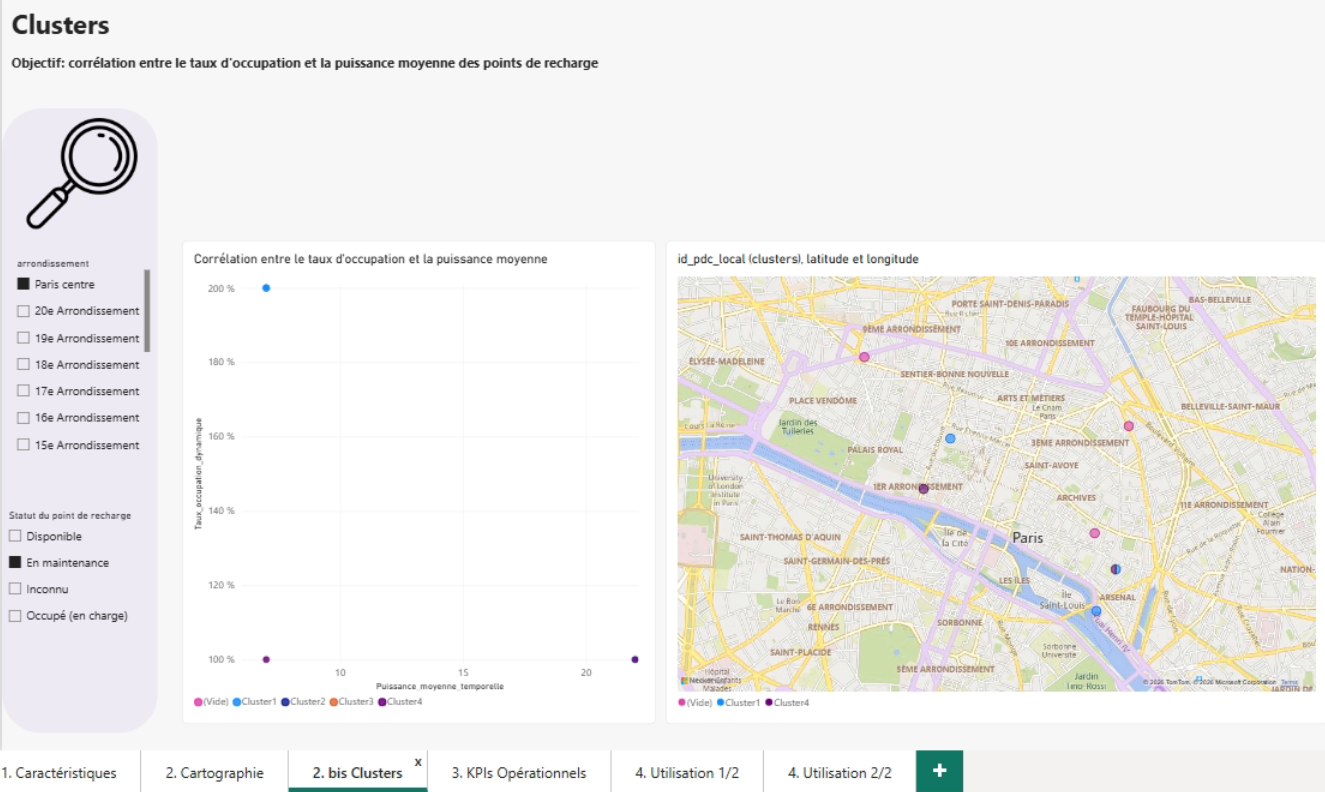

Layout of this report page (visuals, bound fields, positions):
{"tool":"powerbi","page":{"name":"2. bis Clusters","canvas":[1920,1080],"ordinal":2},"visuals":[{"type":"shape","box":[0,166,222,890],"z":0},{"type":"scatterChart","title":"Corrélation entre le taux d''occupation et la puissance moyenne ","fields":{"Category":["belib_temporelle_db dim_statique_temporelle.id_pdc_local"],"Series":["belib_temporelle_db dim_statique_temporelle.id_pdc_local (clusters)"],"X":["belib_temporelle_db dim_statique_temporelle.Puissance_moyenne_temporelle"],"Y":["belib_temporelle_db fait_dispo_temporelle.Taux_occupation_dynamique"]},"box":[256.3,353.7,675,688.7],"z":1000},{"type":"map","fields":{"Series":["belib_temporelle_db dim_statique_temporelle.id_pdc_local (clusters)"],"X":["belib_temporelle_db dim_statique_temporelle.longitude"],"Y":["belib_temporelle_db dim_statique_temporelle.latitude"]},"box":[945,353.7,942.6,689],"z":2000},{"type":"slicer","fields":{"Values":["belib_temporelle_db fait_dispo_temporelle.Statut du point de recharge"]},"box":[1.7,736.5,222.2,222.2],"z":3000},{"type":"slicer","fields":{"Values":["belib_temporelle_db fait_dispo_temporelle.arrondissement"]},"box":[13.7,377.7,196.5,293.9],"z":4000},{"type":"textbox","box":[13.7,20.5,1162,116.2],"z":5000},{"type":"image","box":[24,180,180,158],"z":5001}]}

Visuals, with their boxes on the page's 1920x1080 design canvas (x1, y1, x2, y2). These are canvas units, not pixel positions in the 1325x792 screenshot, which may show the page scaled, cropped or inside an application window:
shape: (x1=0, y1=166, x2=222, y2=1056)
"Corrélation entre le taux d''occupation et la puissance moyenne " scatterChart: (x1=256, y1=354, x2=931, y2=1042)
map - belib_temporelle_db dim_statique_temporelle.id_pdc_local (clusters) x belib_temporelle_db dim_statique_temporelle.longitude: (x1=945, y1=354, x2=1888, y2=1043)
slicer - belib_temporelle_db fait_dispo_temporelle.Statut du point de recharge: (x1=2, y1=736, x2=224, y2=959)
slicer - belib_temporelle_db fait_dispo_temporelle.arrondissement: (x1=14, y1=378, x2=210, y2=672)
textbox: (x1=14, y1=20, x2=1176, y2=137)
image: (x1=24, y1=180, x2=204, y2=338)
